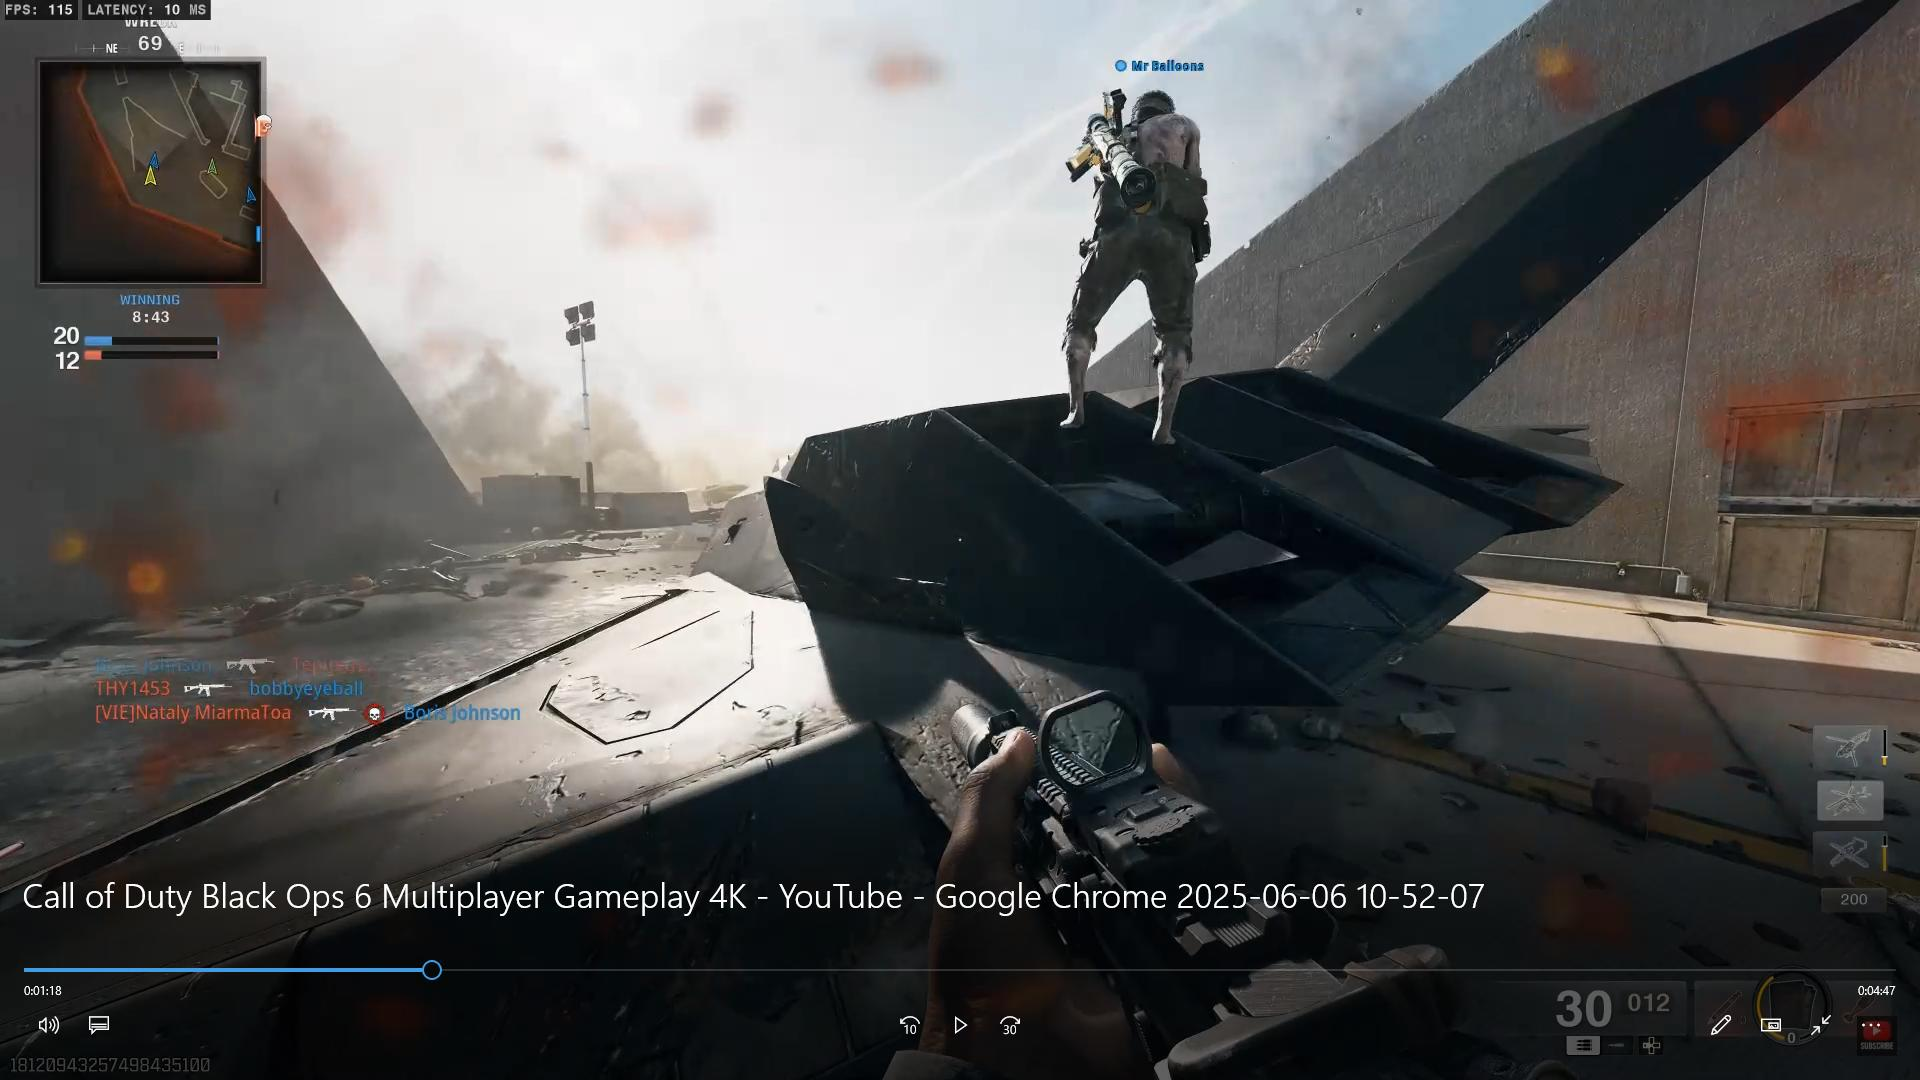Enemy: (1055, 80, 1232, 452)
